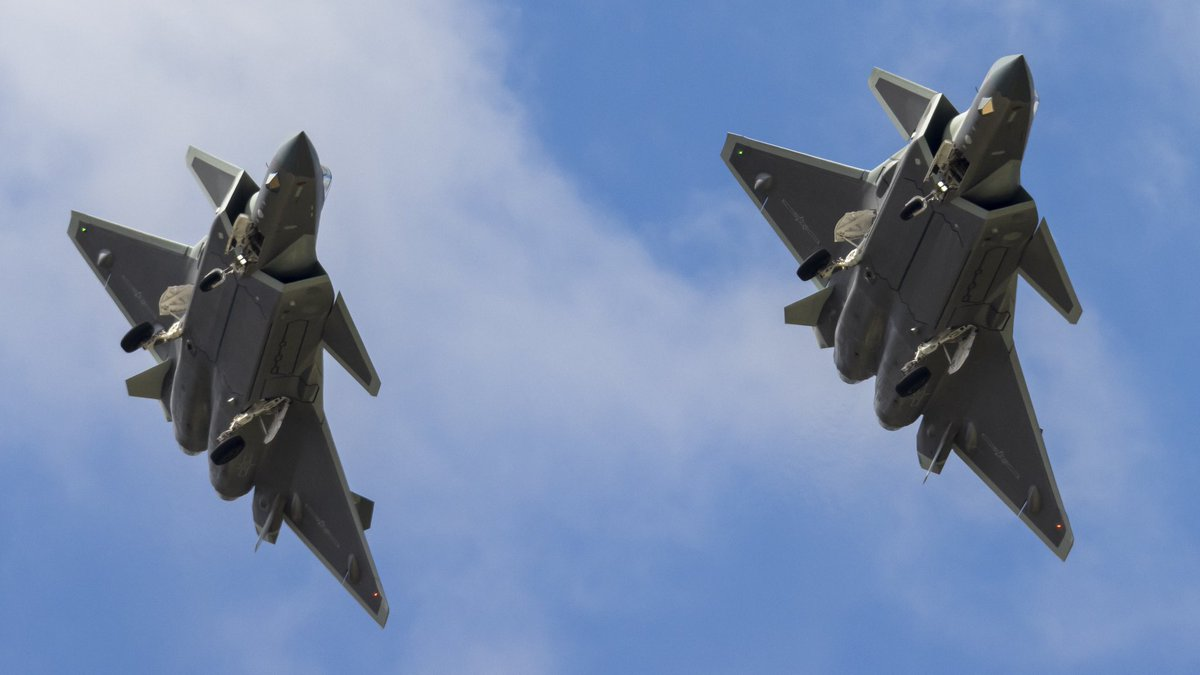J20: (719, 53, 1084, 564), (66, 130, 390, 630)
